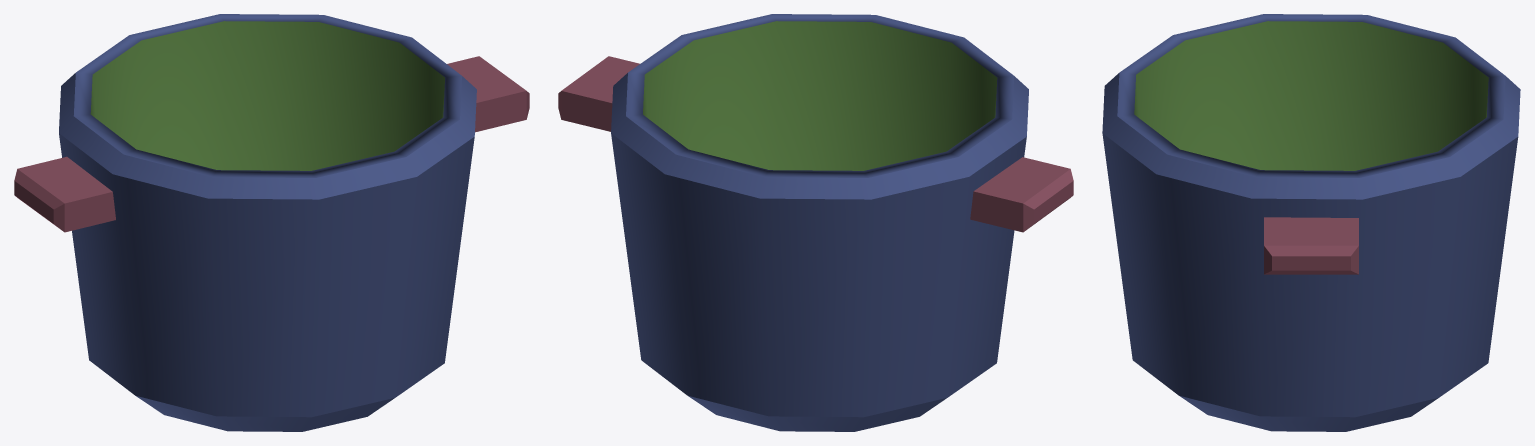
Rendered from bigPot.fbx.
3 renders of one model, left to right at view 1: azimuth 30°, elevation 25°; view 2: azimuth 150°, elevation 25°; view 3: azimuth 270°, elevation 25°, orthographic.
Visible parts, largest first — view 1: bigPot; view 2: bigPot; view 3: bigPot.
Boxes of the visible parts, box(x1,y1,x2,y2) form: bigPot: box(14, 14, 529, 431); bigPot: box(558, 14, 1073, 431); bigPot: box(1102, 14, 1520, 431).
Size of the model in its own units: 0.4219 by 0.2346 by 0.3211.
